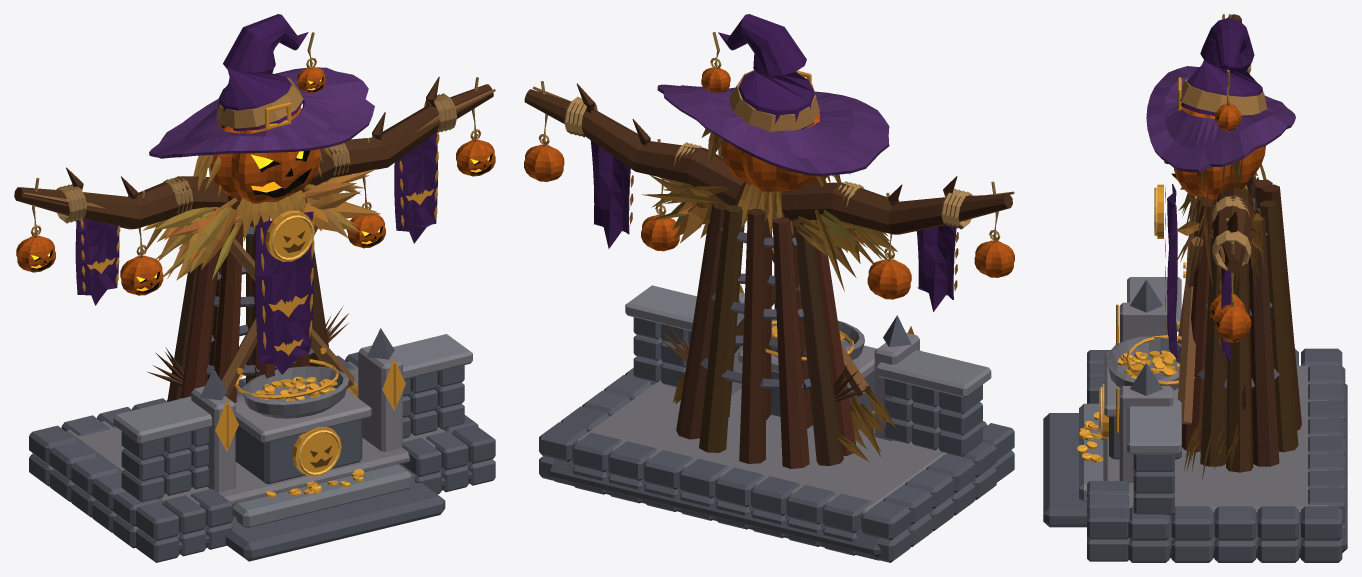
The model's file is HalloweenOfferingShrine.glb.
3 views of the same model, side by side, from view 1: azimuth 30°, elevation 25°; view 2: azimuth 150°, elevation 25°; view 3: azimuth 270°, elevation 25° (orthographic). The views are drawn at different scales.
Visible parts, largest first — view 1: Shrine_Structure, Shrine_Gold, Shrine_Embers; view 2: Shrine_Structure; view 3: Shrine_Structure, Shrine_Gold.
Part boxes in pixels (x1,y1,x2,y2): Shrine_Structure: (14,14,495,562); Shrine_Gold: (87,102,434,497); Shrine_Embers: (31,79,489,291); Shrine_Structure: (524,14,1014,562); Shrine_Structure: (1043,14,1347,562); Shrine_Gold: (1077,77,1194,462).
Bounding box in the file's own units: 6.42 × 5.8 × 3.46.
